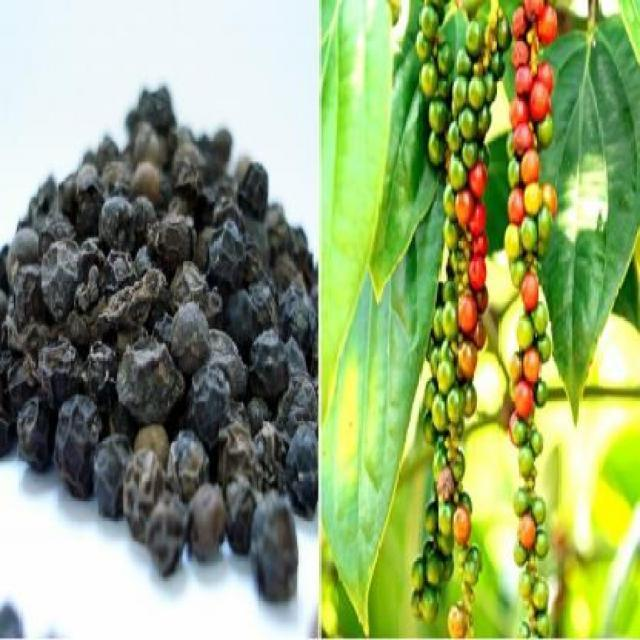RIPE: (509, 3, 560, 423), (456, 166, 498, 372), (423, 183, 455, 366)
UNRIPE: (412, 383, 478, 629), (452, 6, 500, 165), (514, 428, 549, 634), (421, 6, 453, 162)
